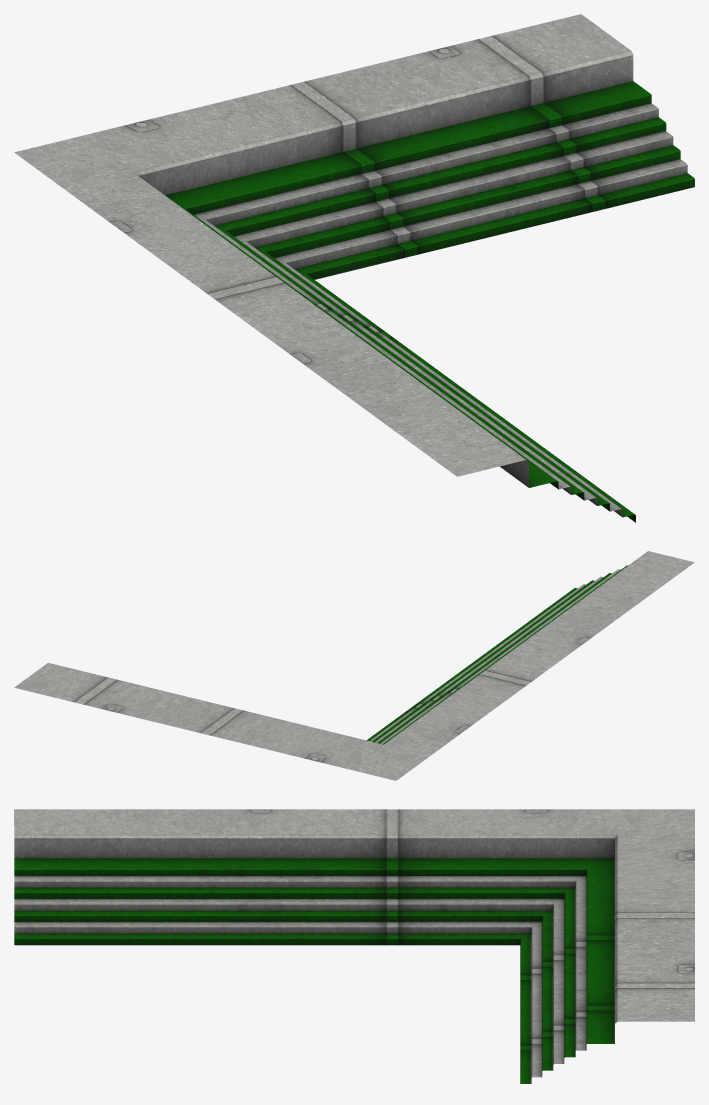
The model's file is Tribunas.fbx.
3 views of the same model, one above another, from view 1: azimuth 30°, elevation 25°; view 2: azimuth 150°, elevation 25°; view 3: azimuth 270°, elevation 25° (orthographic). The views are drawn at different scales.
Visible parts, largest first — view 1: tribunas; view 2: tribunas; view 3: tribunas.
Part boxes in pixels (left/top/right/bottom): tribunas: left=14, top=14, right=694, bottom=522; tribunas: left=14, top=551, right=694, bottom=780; tribunas: left=14, top=809, right=694, bottom=1083.
Bounding box in the file's own units: 68.17 × 10.32 × 92.27.
